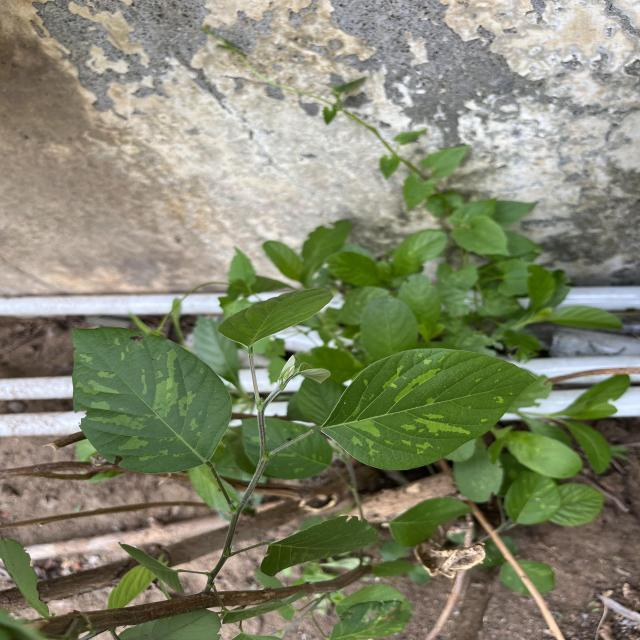Desmodium gangeticum: (318, 346, 540, 473), (66, 324, 235, 476)
